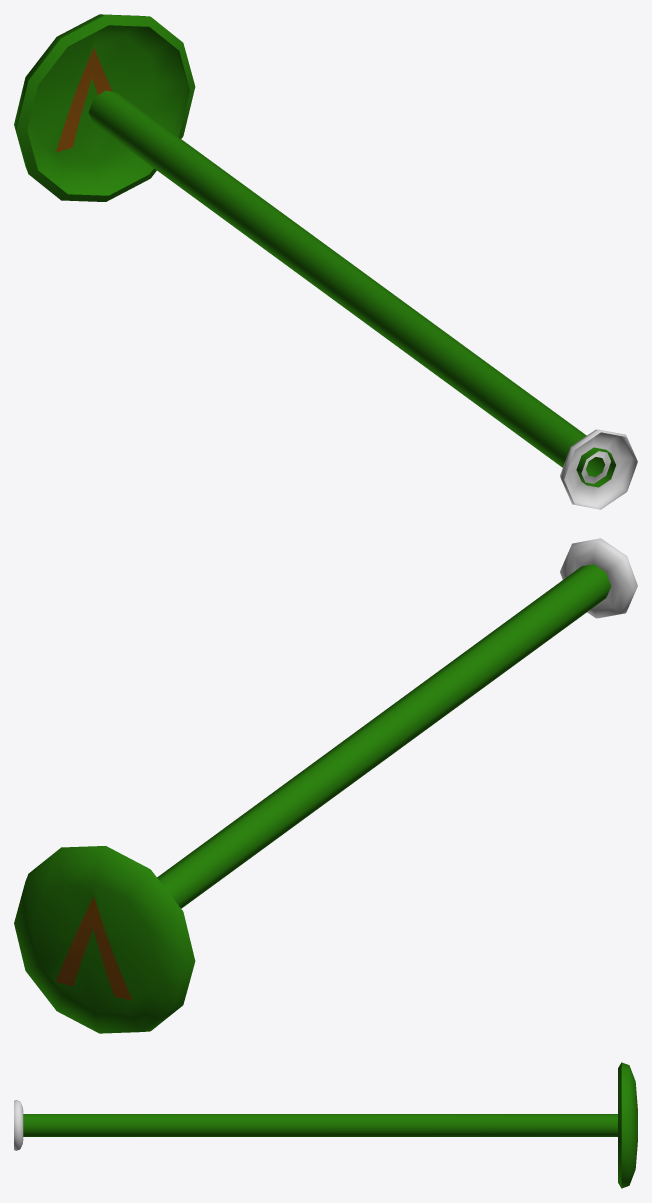
Rendered from ArrowStick.fbx.
The picture shows the model from 3 angles, top to bottom: view 1: azimuth 30°, elevation 25°; view 2: azimuth 150°, elevation 25°; view 3: azimuth 270°, elevation 25°; orthographic projection. The views are drawn at different scales.
Visible parts, largest first — view 1: ArrowStick, ArrowStickNob; view 2: ArrowStick, ArrowStickNob; view 3: ArrowStick, ArrowStickNob.
Part boxes in pixels (x1,y1,x2,y2): ArrowStick: (14, 14, 615, 487); ArrowStickNob: (560, 429, 637, 509); ArrowStick: (14, 564, 610, 1033); ArrowStickNob: (560, 538, 637, 618); ArrowStick: (23, 1062, 637, 1188); ArrowStickNob: (14, 1100, 23, 1150).
Bounding box in the file's own units: 105 × 105 × 515.
